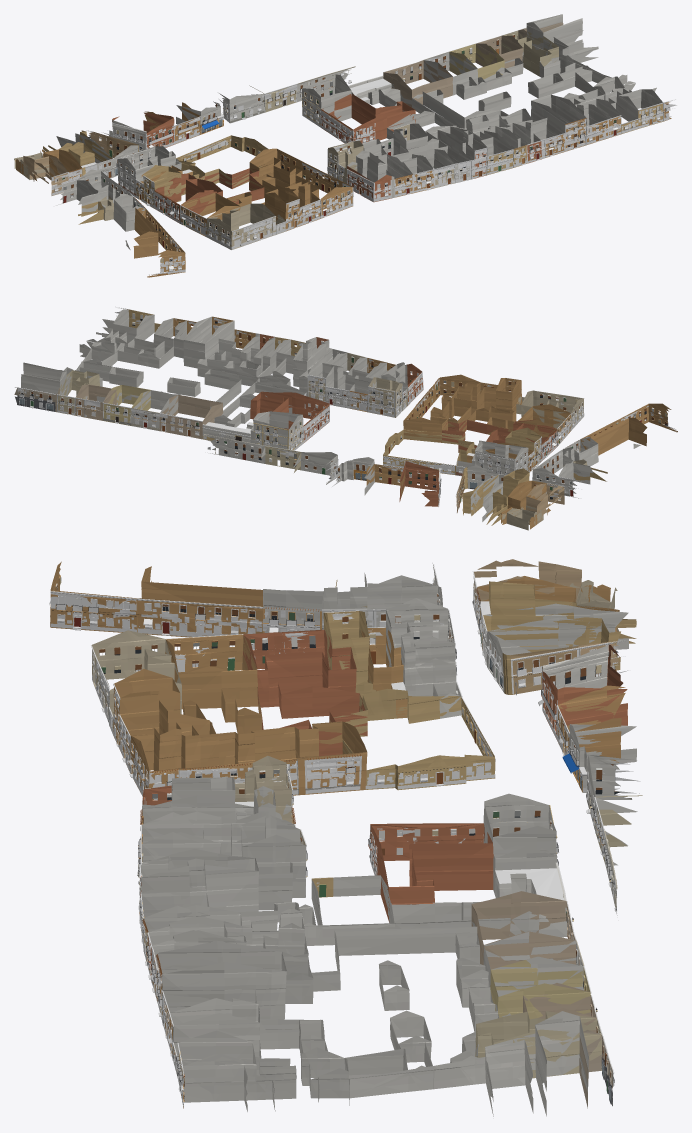
The model's file is zona_0_-2.glb.
3 views of the same model, one above another, from view 1: azimuth 30°, elevation 25°; view 2: azimuth 150°, elevation 25°; view 3: azimuth 270°, elevation 25° (orthographic). The views are drawn at different scales.
Parts seen in each view (by area): view 1: z_casas_0_-2, z_fachadas_0_-2, z_casas_planas_0_-2; view 2: z_casas_0_-2, z_fachadas_0_-2, z_casas_planas_0_-2; view 3: z_casas_0_-2, z_fachadas_0_-2, z_casas_planas_0_-2.
Part boxes in pixels (bbox=[...]): z_casas_0_-2: bbox=[14, 14, 671, 277]; z_fachadas_0_-2: bbox=[51, 28, 676, 277]; z_casas_planas_0_-2: bbox=[81, 78, 391, 175]; z_casas_0_-2: bbox=[14, 309, 676, 530]; z_fachadas_0_-2: bbox=[15, 307, 677, 512]; z_casas_planas_0_-2: bbox=[202, 422, 530, 480]; z_casas_0_-2: bbox=[50, 559, 642, 1116]; z_fachadas_0_-2: bbox=[49, 564, 640, 1107]; z_casas_planas_0_-2: bbox=[235, 601, 587, 937].
Bounding box in the file's own units: 209 × 12.11 × 100.
